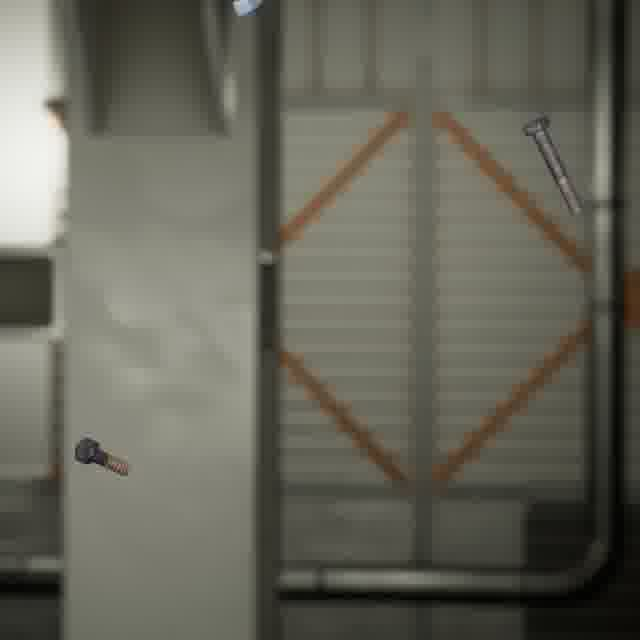bolt: (518, 112, 587, 219), (70, 432, 135, 480)
